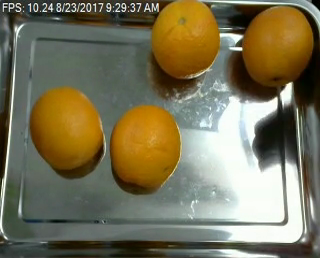Orange: (29, 86, 105, 170), (241, 5, 314, 89), (110, 104, 182, 188), (150, 1, 220, 79)
